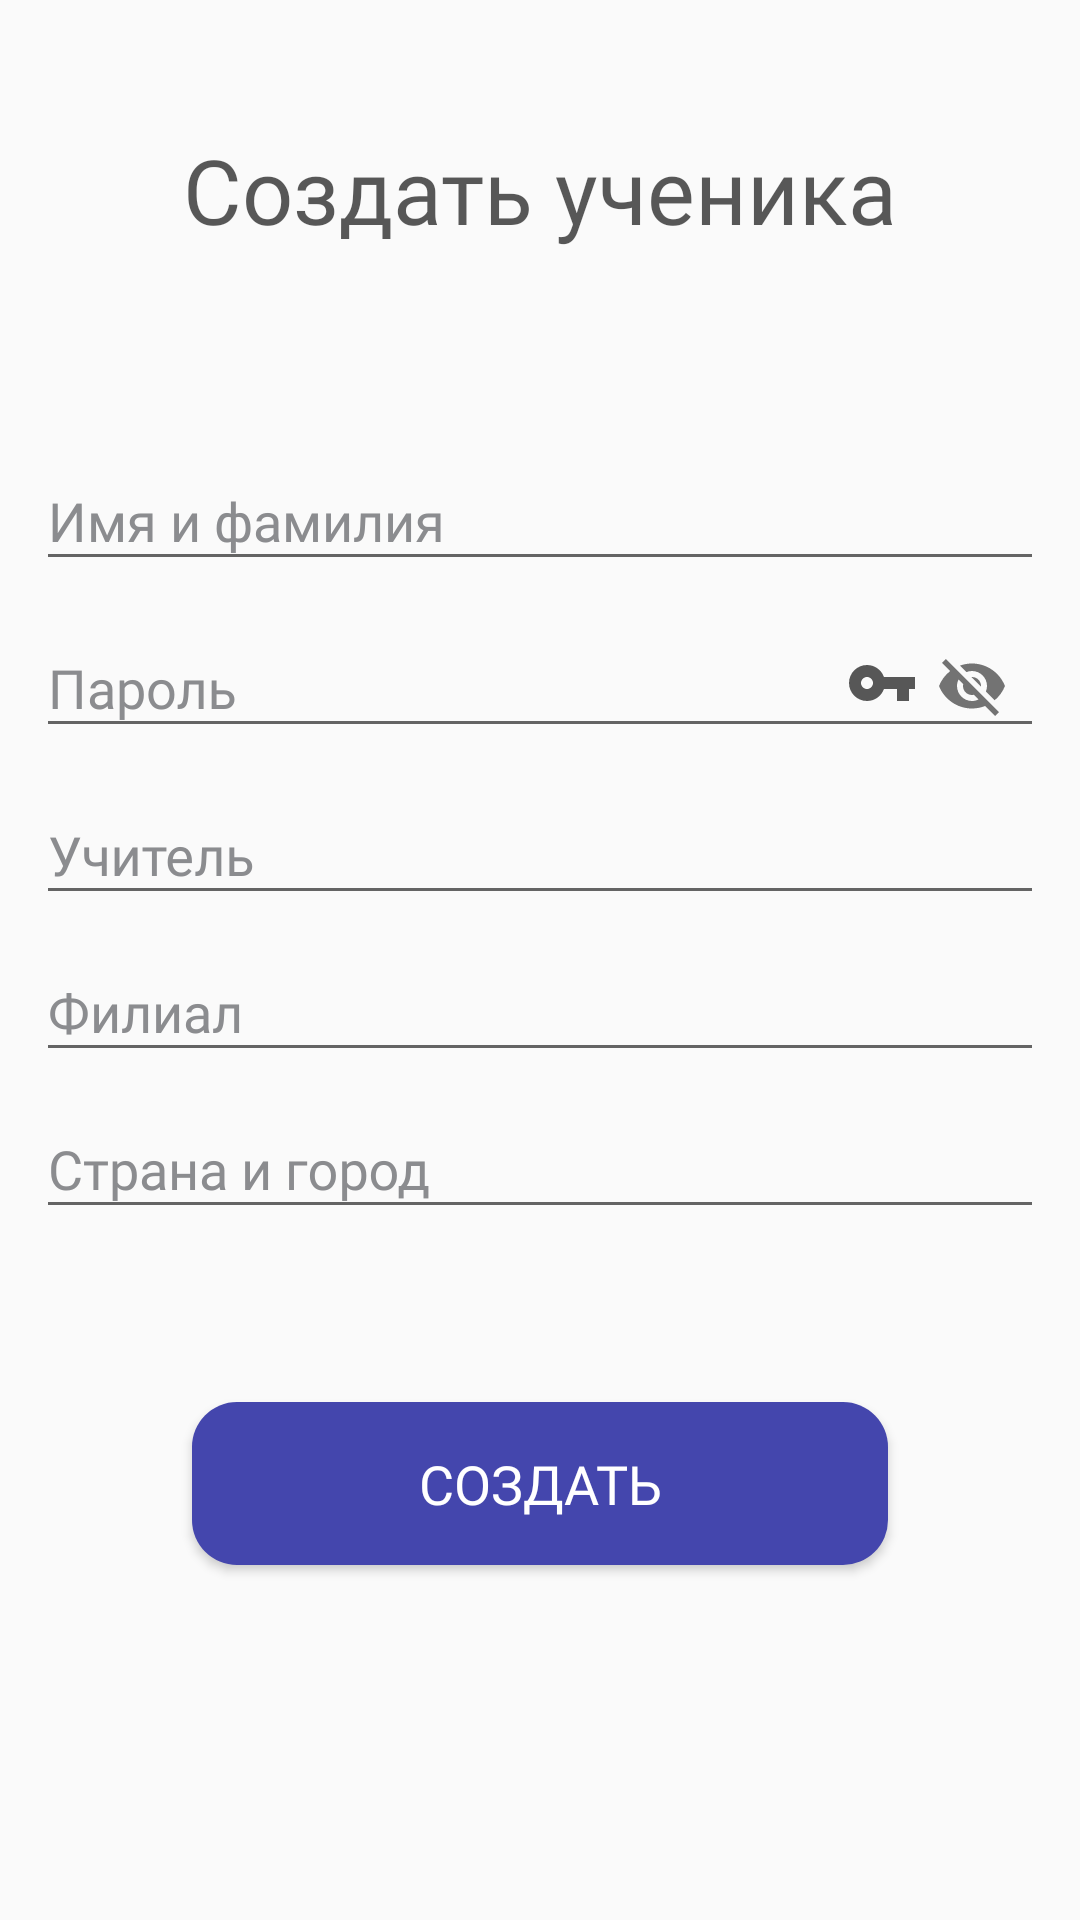

Icon bounding boxes for this 1080*1920 phone screenshot, format (x1, y1, x2, y2):
key: (849, 665, 915, 701)
